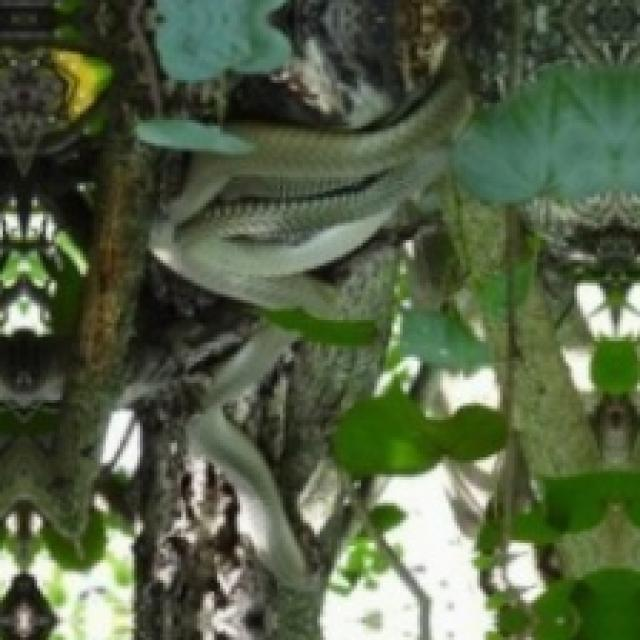king cobra: (149, 60, 469, 314), (188, 325, 305, 588)
